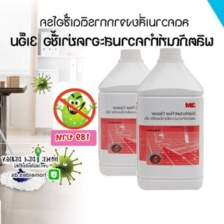cleaning_solution: (134, 45, 205, 192), (95, 46, 161, 180)
